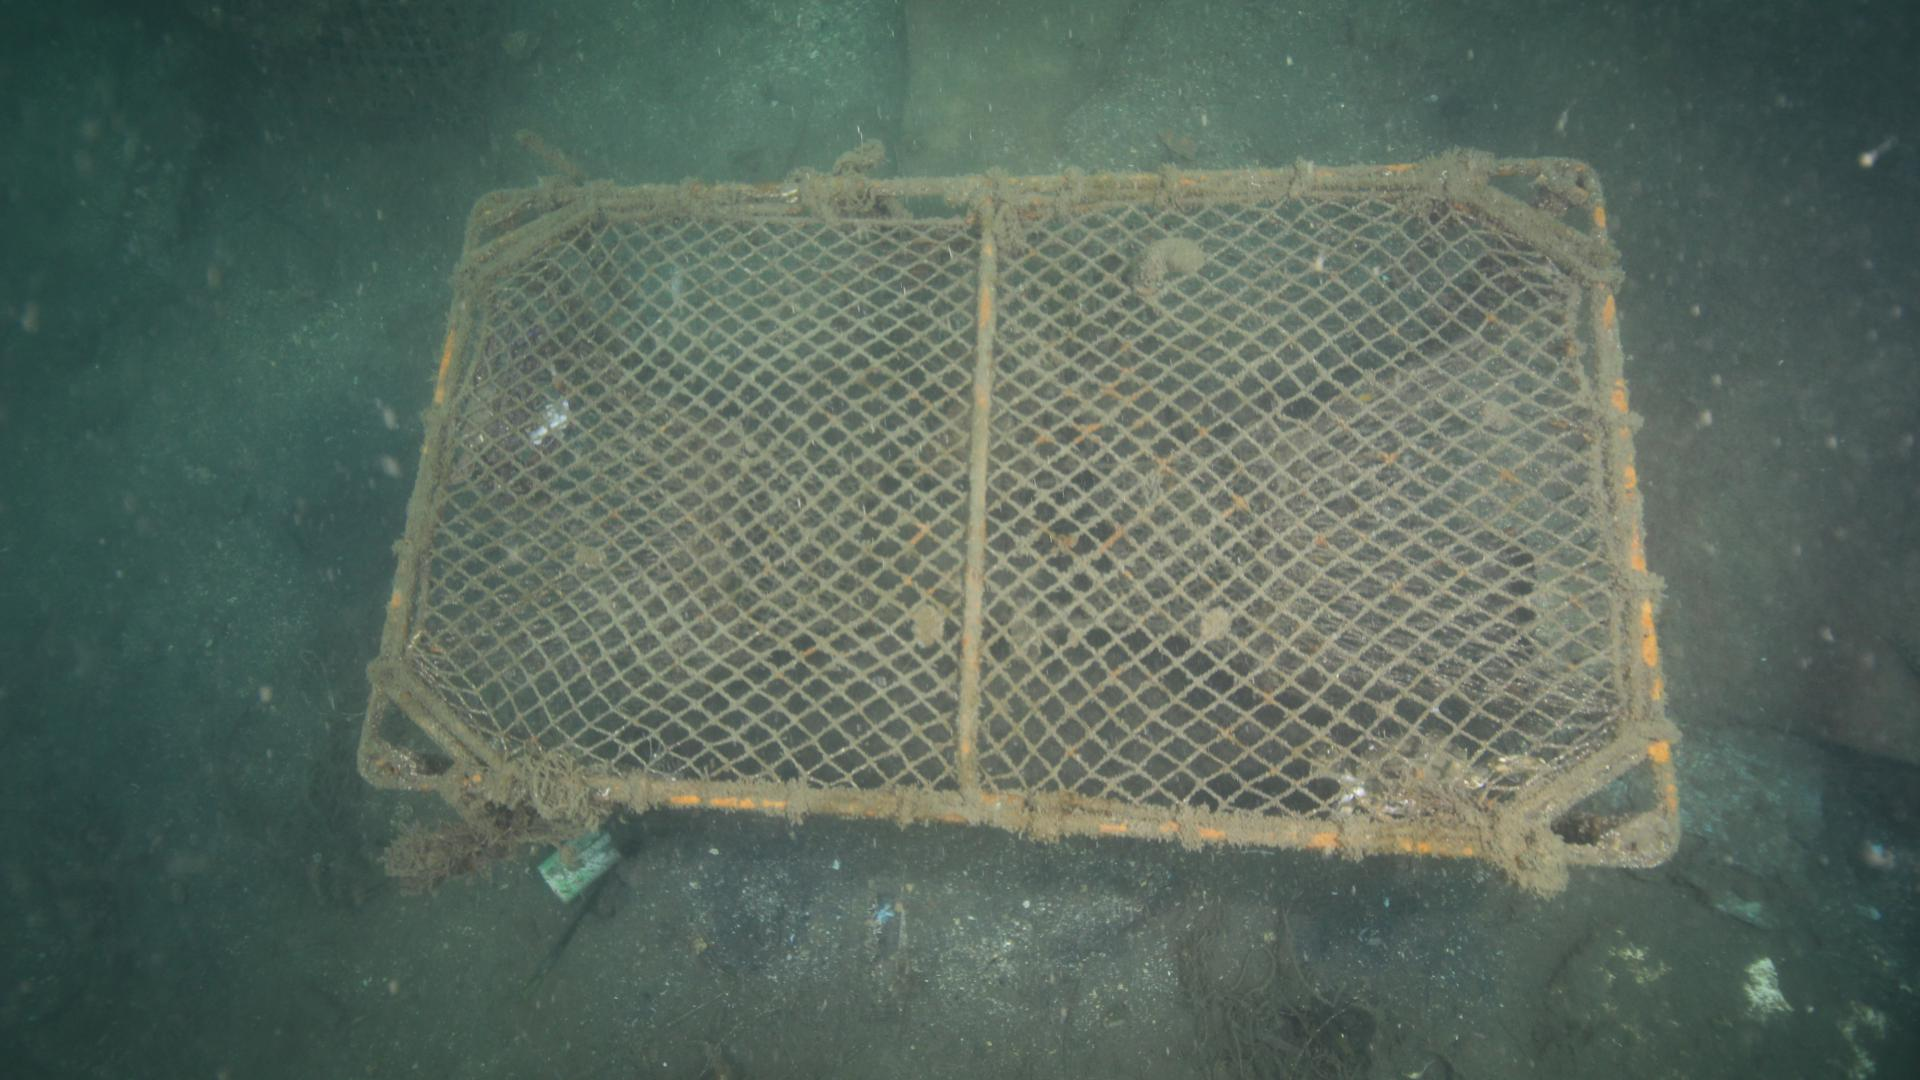rectangular fish trap: (351, 148, 1695, 878)
